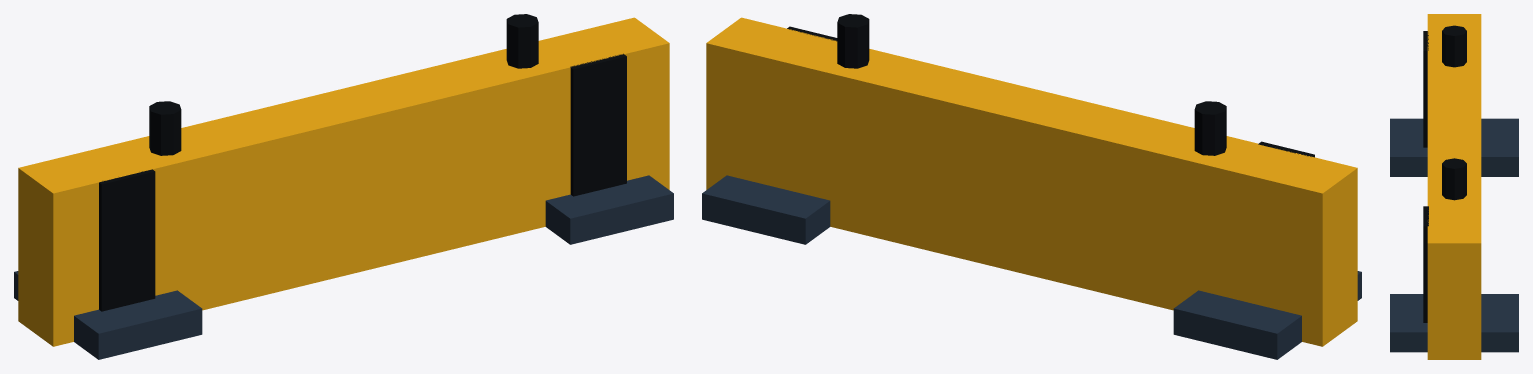
Rendered from flood-barrier.obj.
The picture shows the model from 3 angles, left to right: view 1: azimuth 30°, elevation 25°; view 2: azimuth 150°, elevation 25°; view 3: azimuth 270°, elevation 25°; orthographic projection. The views are drawn at different scales.
Parts seen in each view (by area): view 1: Barrier wall, Reflective stripe, Foot, Connector; view 2: Barrier wall, Foot, Connector; view 3: Barrier wall, Foot, Connector, Reflective stripe.
Boxes of the visible parts, x1=… form: Barrier wall: x1=18, y1=17, x2=669, y2=346; Reflective stripe: x1=99, y1=53, x2=626, y2=311; Foot: x1=14, y1=175, x2=673, y2=359; Connector: x1=149, y1=14, x2=538, y2=155; Barrier wall: x1=706, y1=17, x2=1357, y2=346; Foot: x1=702, y1=175, x2=1361, y2=359; Connector: x1=837, y1=14, x2=1226, y2=155; Barrier wall: x1=1427, y1=14, x2=1481, y2=359; Foot: x1=1390, y1=118, x2=1518, y2=352; Connector: x1=1442, y1=25, x2=1466, y2=200; Reflective stripe: x1=1423, y1=31, x2=1428, y2=322.
Size of the model in its own units: 3.45 by 1.04 by 0.82.
